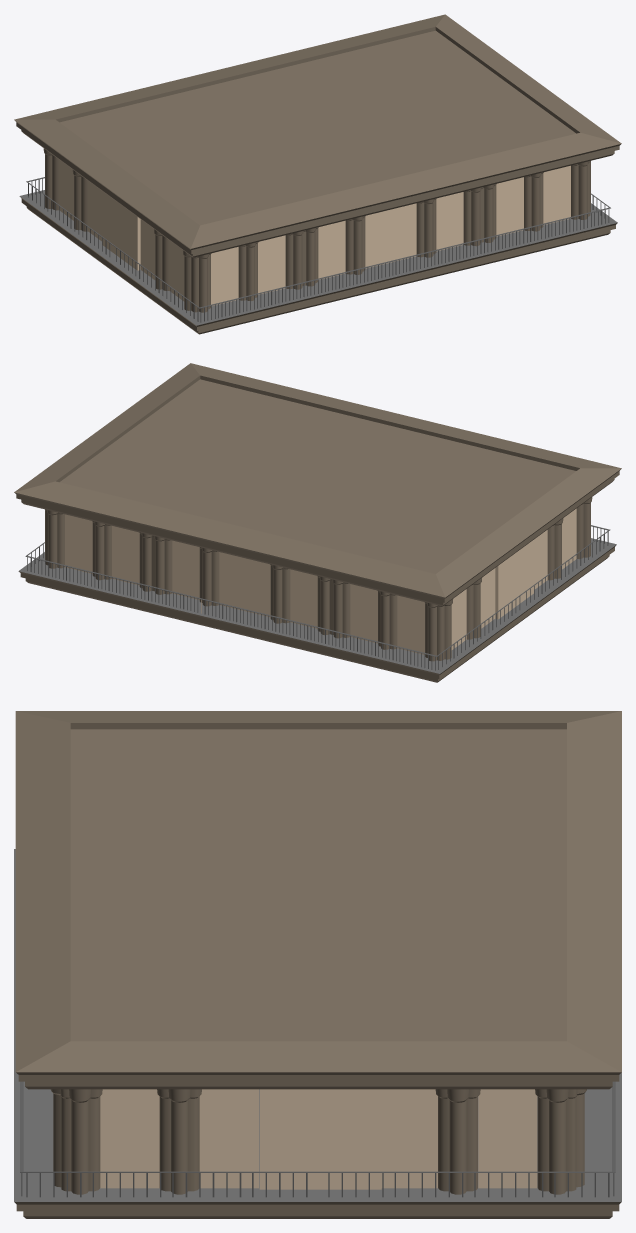
Rendered from Apt3_Roof.fbx.
The picture shows the model from 3 angles, top to bottom: view 1: azimuth 30°, elevation 25°; view 2: azimuth 150°, elevation 25°; view 3: azimuth 270°, elevation 25°; orthographic projection. The views are drawn at different scales.
Visible parts, largest first — view 1: Apt3_Roof_Border, Apt3_Roof_Main, Apt3_Roof_Pillars, Apt3_Roof_Balcony, Apt3_Roof_Rails; view 2: Apt3_Roof_Border, Apt3_Roof_Main, Apt3_Roof_Pillars, Apt3_Roof_Balcony, Apt3_Roof_Rails; view 3: Apt3_Roof_Border, Apt3_Roof_Main, Apt3_Roof_Pillars, Apt3_Roof_Balcony, Apt3_Roof_Rails.
Part boxes in pixels (box(x1,y1,x2,y2)): Apt3_Roof_Border: box(14, 14, 621, 334); Apt3_Roof_Main: box(59, 160, 570, 305); Apt3_Roof_Pillars: box(43, 148, 590, 312); Apt3_Roof_Balcony: box(19, 190, 617, 325); Apt3_Roof_Rails: box(26, 177, 610, 322); Apt3_Roof_Border: box(14, 363, 621, 682); Apt3_Roof_Main: box(65, 508, 576, 654); Apt3_Roof_Pillars: box(45, 497, 592, 661); Apt3_Roof_Balcony: box(18, 538, 616, 673); Apt3_Roof_Rails: box(25, 525, 610, 670); Apt3_Roof_Border: box(14, 711, 621, 1218); Apt3_Roof_Main: box(100, 1089, 537, 1189); Apt3_Roof_Pillars: box(50, 1089, 586, 1194); Apt3_Roof_Balcony: box(14, 849, 621, 1201); Apt3_Roof_Rails: box(20, 1081, 615, 1197).
Size of the model in its own units: 3056 by 658 by 2174.
